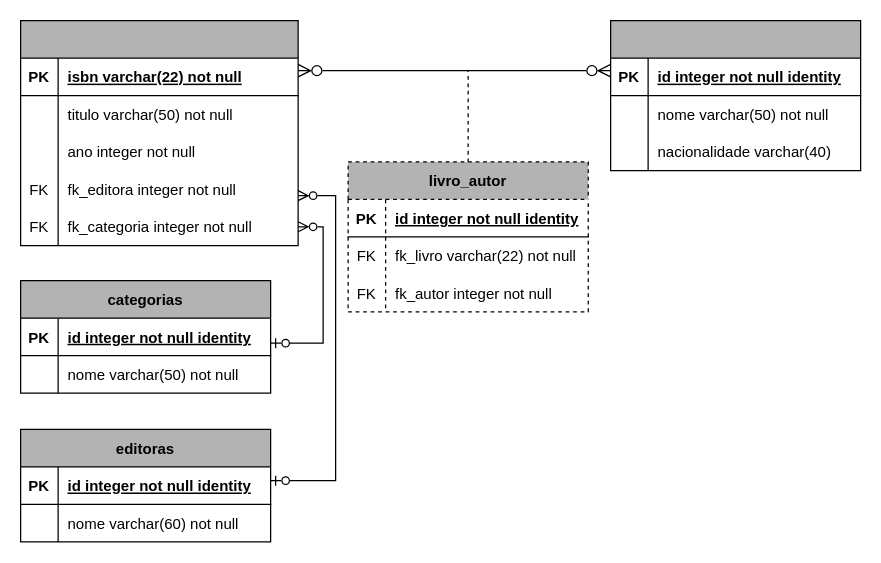
This 881x563 diagram has some shape labels left out. The shapes that lost their labels are listed below. From the top down, each one's box as (x1, y1, x2, y2) in pixels, then its label:
(609, 19, 861, 170): autores
(19, 19, 298, 246): livros
